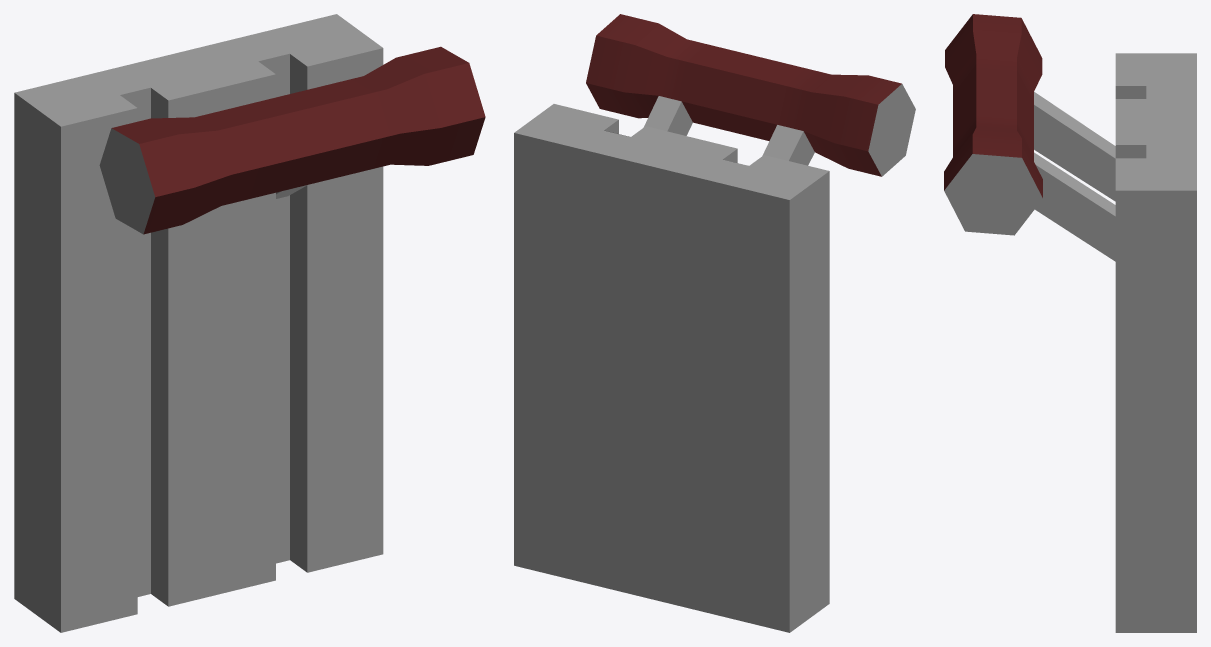
File: Lever.fbx
The picture shows the model from 3 angles, left to right: view 1: azimuth 30°, elevation 25°; view 2: azimuth 150°, elevation 25°; view 3: azimuth 270°, elevation 25°; orthographic projection. The views are drawn at different scales.
Parts seen in each view (by area): view 1: pCube1, pCylinder1; view 2: pCube1, pCylinder1; view 3: pCube1, pCylinder1.
Boxes of the visible parts, <box> form: pCube1: <box>14,14,383,632</box>; pCylinder1: <box>99,46,485,234</box>; pCube1: <box>514,104,829,632</box>; pCylinder1: <box>586,14,915,176</box>; pCube1: <box>1115,53,1196,632</box>; pCylinder1: <box>944,14,1115,261</box>.
Bounding box in the file's own units: 18.41 × 29.35 × 13.99.
